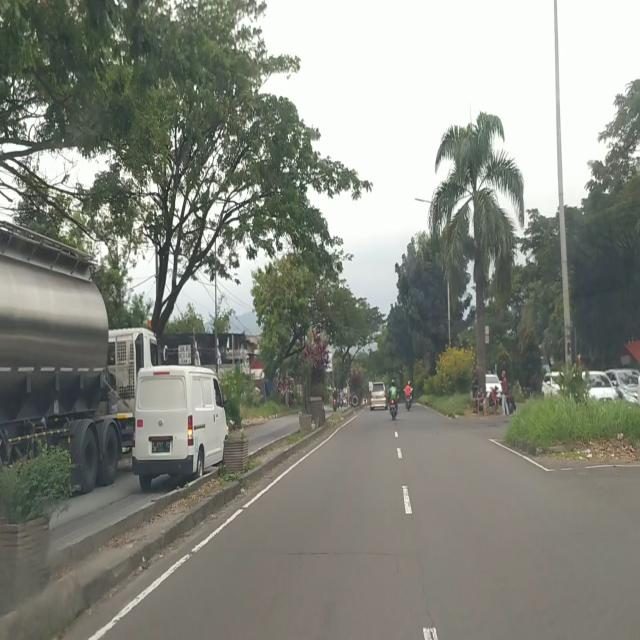Sewer Cover: (281, 548, 411, 560)
